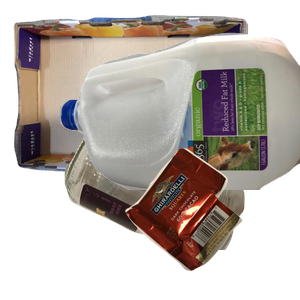cardboard: (11, 13, 251, 182)
glass: (62, 120, 300, 300)
plastic: (60, 30, 300, 210)
trash: (123, 145, 300, 300)
